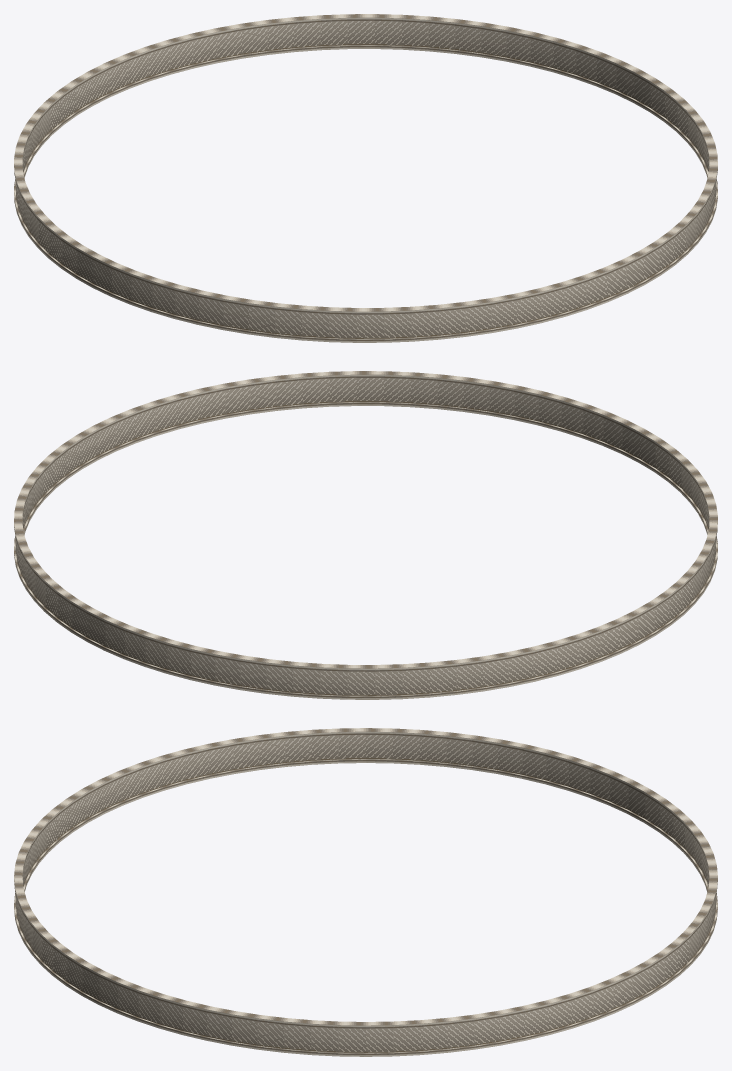
The model's file is ring_2.obj.
The picture shows the model from 3 angles, top to bottom: view 1: azimuth 30°, elevation 25°; view 2: azimuth 150°, elevation 25°; view 3: azimuth 270°, elevation 25°; orthographic projection.
Bounding box in the file's own units: 23.2 × 1.14 × 23.2.
